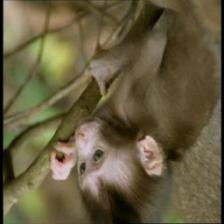monkey: (71, 110, 138, 208)
